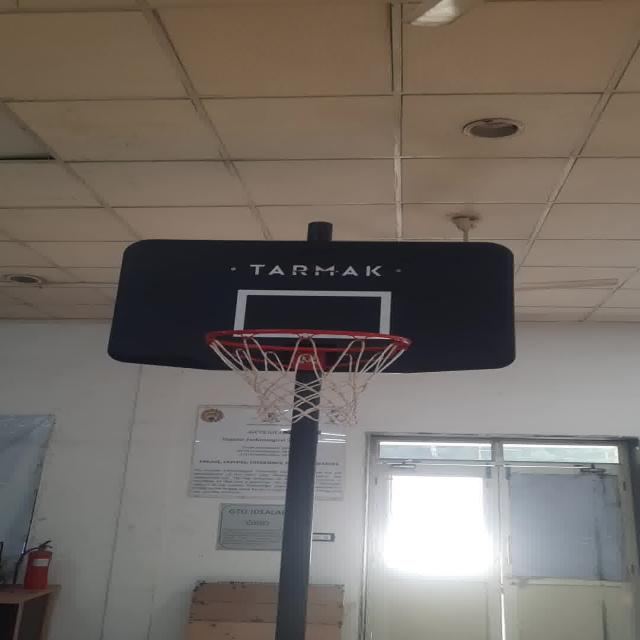objects: (184, 315, 433, 438), (230, 288, 390, 338)
